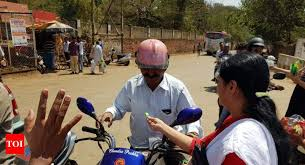helmet: (137, 44, 181, 104)
